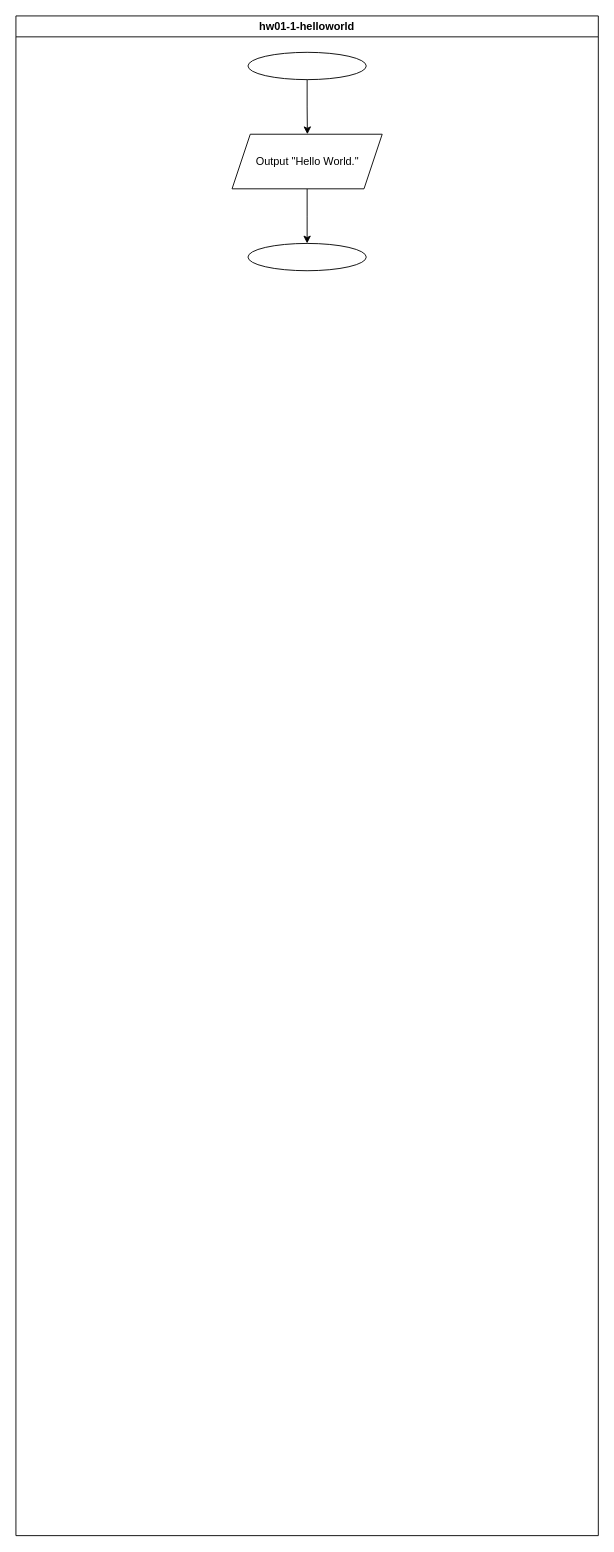
Image size: 614x1552. Some labels were removed from this diagram. Each missing label, with the centre of its shape:
"End" goes at (306,257).
"Start" goes at (306,65).
